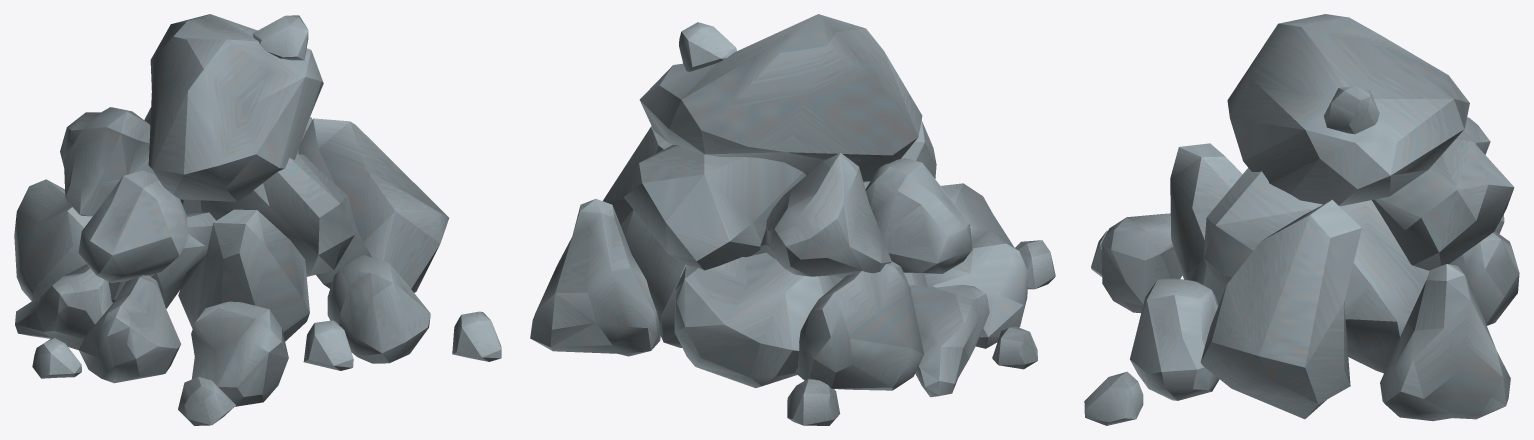
Rendered from Stone_Chunks_Large.gltf.
3 views of the same model, side by side, from view 1: azimuth 30°, elevation 25°; view 2: azimuth 150°, elevation 25°; view 3: azimuth 270°, elevation 25° (orthographic). The views are drawn at different scales.
Parts seen in each view (by area): view 1: Stone_Chunks_Large; view 2: Stone_Chunks_Large; view 3: Stone_Chunks_Large.
Part boxes in pixels (left/top/right/bottom): Stone_Chunks_Large: left=14, top=14, right=501, bottom=425; Stone_Chunks_Large: left=530, top=14, right=1055, bottom=425; Stone_Chunks_Large: left=1084, top=14, right=1519, bottom=425.
Bounding box in the file's own units: 1.5 × 1.08 × 1.35.
1 material, 1 textured.
